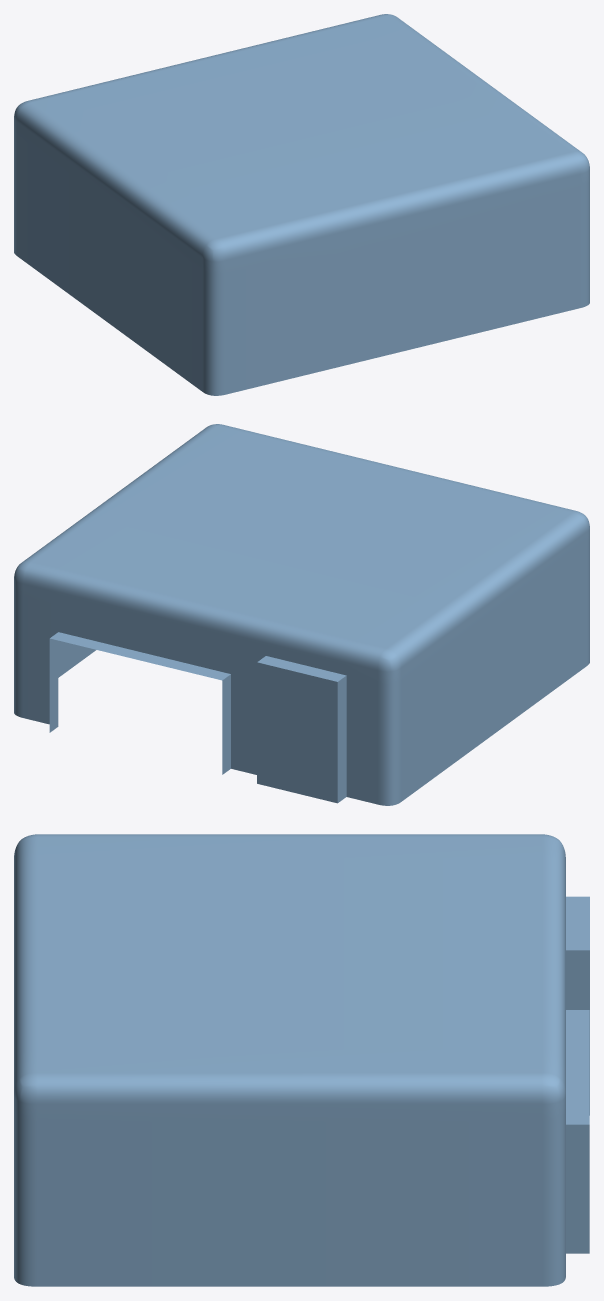
Rendered from E_room_B.fbx.
3 renders of one model, top to bottom at view 1: azimuth 30°, elevation 25°; view 2: azimuth 150°, elevation 25°; view 3: azimuth 270°, elevation 25°, orthographic. The views are drawn at different scales.
Visible parts, largest first — view 1: Box2131640153; view 2: Box2131640153; view 3: Box2131640153.
Part boxes in pixels (bbox=[...]): Box2131640153: bbox=[14, 14, 589, 395]; Box2131640153: bbox=[14, 424, 589, 805]; Box2131640153: bbox=[14, 834, 589, 1286].
Size of the model in its own units: 788 by 294 by 752.
